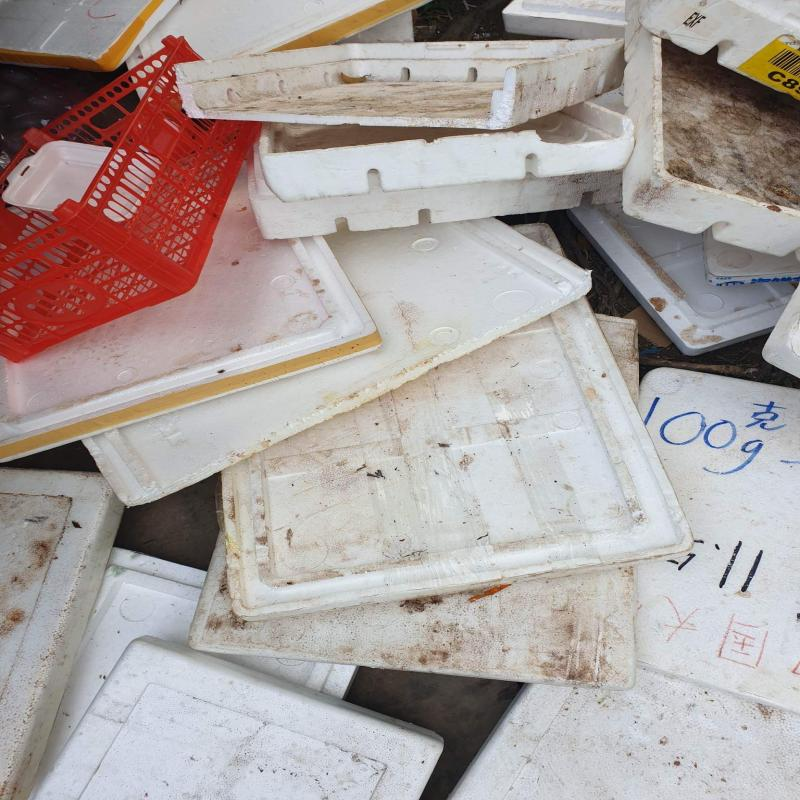styrofoam containers: (222, 300, 693, 619), (82, 218, 593, 508), (0, 178, 382, 463), (188, 534, 638, 691), (27, 636, 444, 800), (447, 670, 800, 800), (622, 0, 800, 257), (174, 39, 625, 130), (258, 102, 635, 204), (566, 203, 794, 357), (639, 0, 800, 101), (2, 140, 111, 212)
